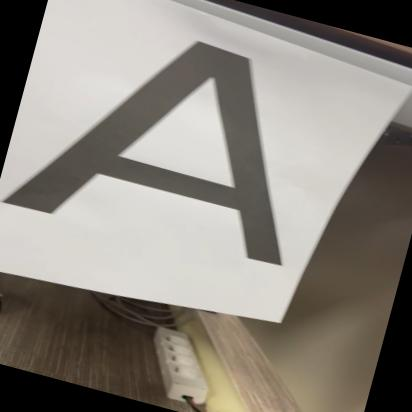seat: (0, 0, 340, 283)
